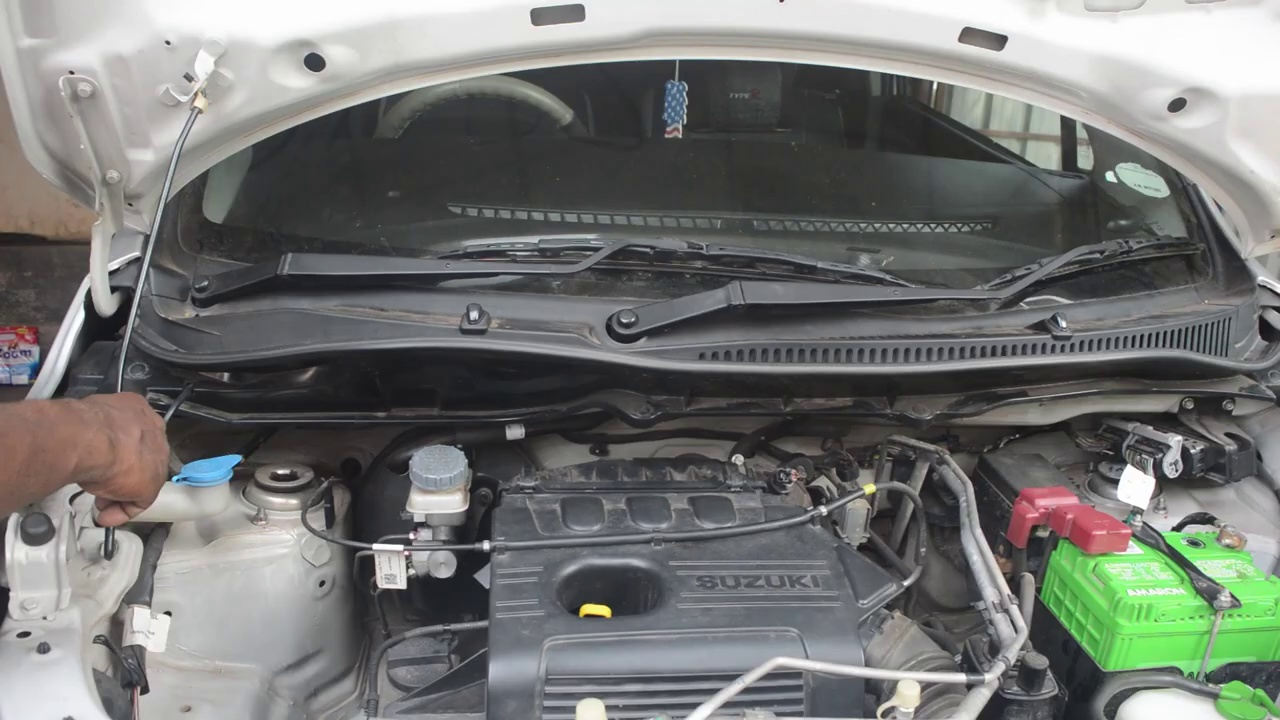battery: (1053, 520, 1280, 630)
neg_connected: (1187, 497, 1252, 557)
pos_connected: (1020, 480, 1137, 565)
